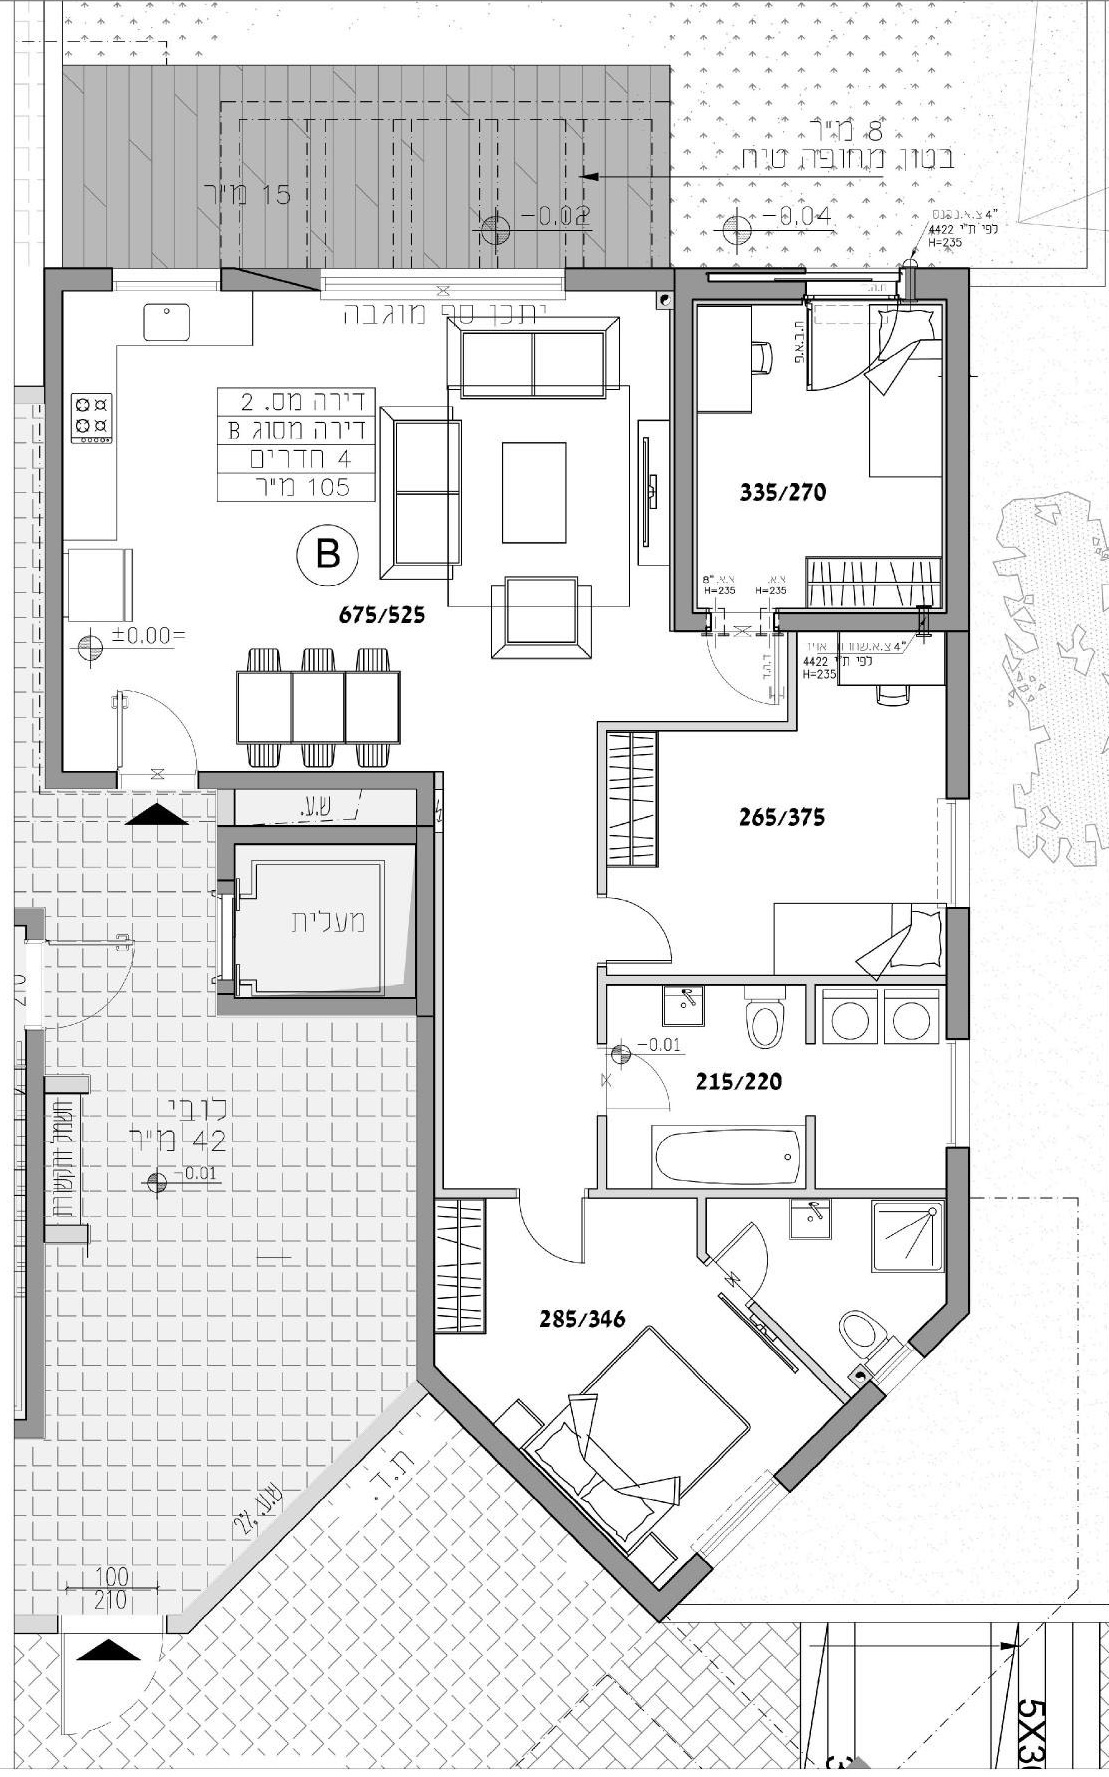door: (57, 1617, 166, 1748), (47, 936, 142, 1028), (116, 683, 197, 784), (704, 629, 790, 710), (517, 1189, 588, 1271), (599, 894, 677, 966), (710, 1220, 778, 1299)
wall: (43, 273, 64, 781), (417, 773, 433, 1381), (945, 267, 970, 627), (46, 266, 63, 788), (26, 1032, 46, 1436), (675, 267, 692, 631), (433, 834, 443, 1197), (948, 1148, 968, 1308), (947, 908, 970, 1040), (595, 976, 943, 984), (606, 1191, 949, 1197)
window: (321, 267, 563, 300), (937, 798, 970, 901), (111, 268, 221, 293), (949, 1039, 972, 1140)
